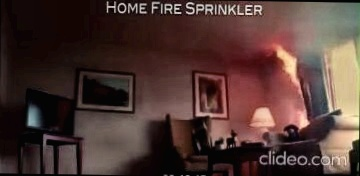fire: (254, 30, 309, 85)
